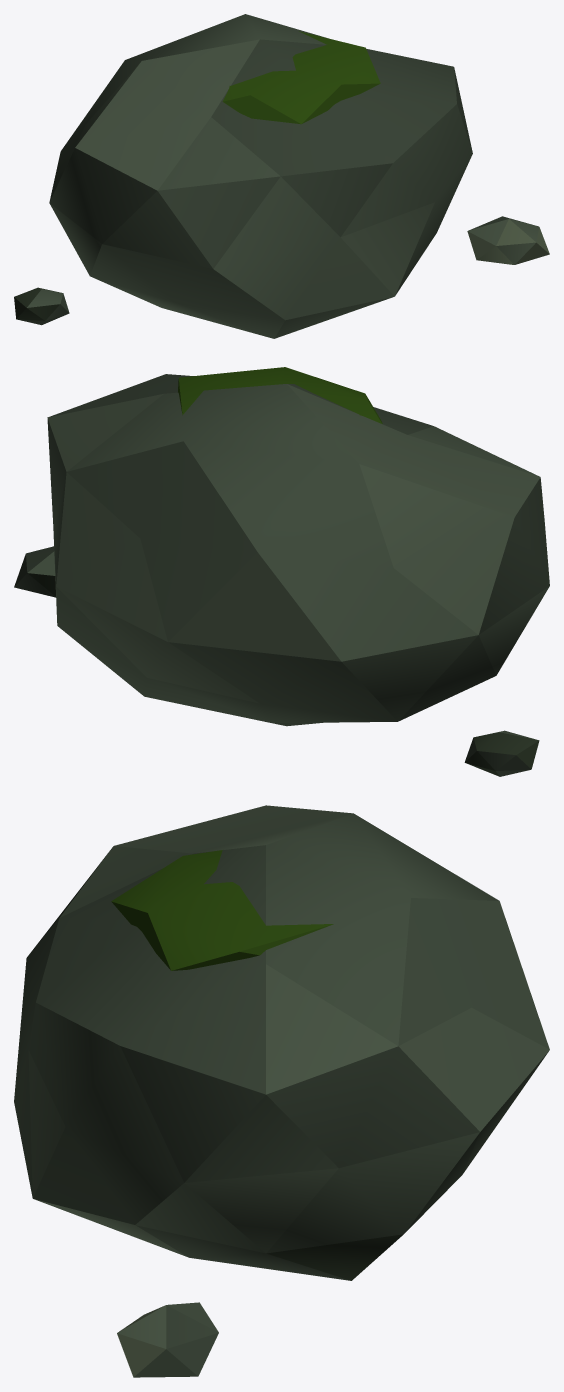
File: bg_forest_rock_1_lod2.glb
3 renders of one model, top to bottom at view 1: azimuth 30°, elevation 25°; view 2: azimuth 150°, elevation 25°; view 3: azimuth 270°, elevation 25°, orthographic. The views are drawn at different scales.
Parts seen in each view (by area): view 1: body; view 2: body; view 3: body.
Boxes of the visible parts, x1,y1,x2,y2 form: body: [14, 14, 549, 338]; body: [14, 367, 549, 776]; body: [14, 805, 549, 1377].
Bounding box in the file's own units: 1.93 × 1.1 × 1.31.
